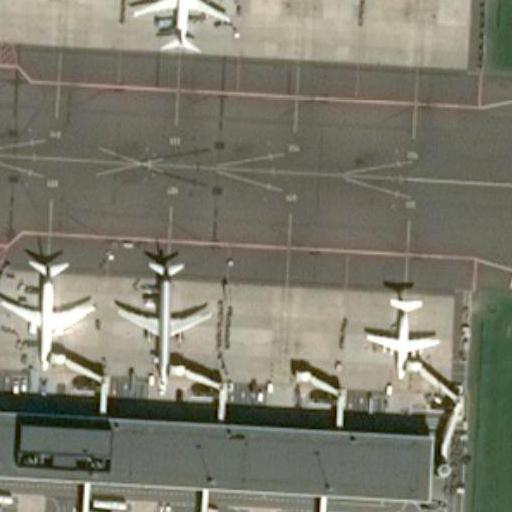Aircraft: (117, 246, 210, 374), (0, 245, 93, 367), (368, 287, 447, 384), (126, 0, 232, 59)
